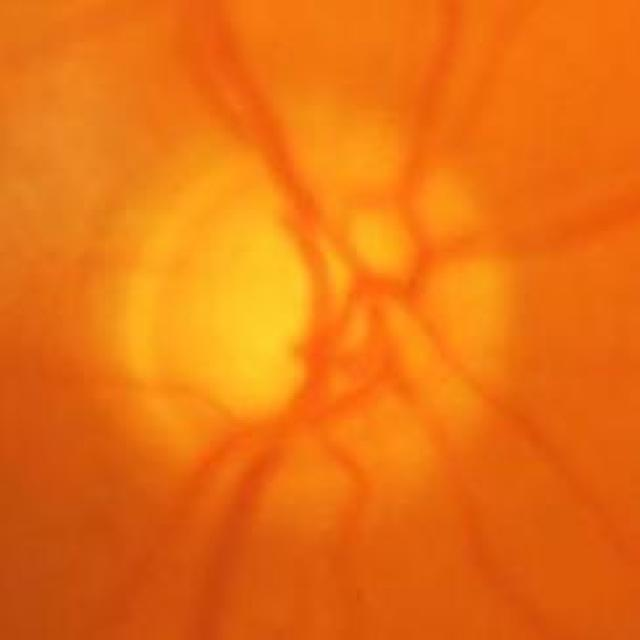OC: (199, 217, 398, 421)
OD: (117, 96, 513, 528)
